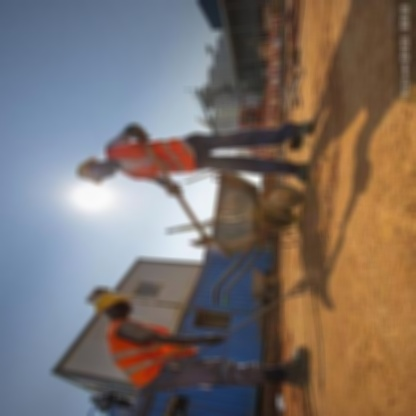vest: (103, 314, 198, 390), (101, 136, 201, 182)
yellow: (92, 287, 134, 316), (73, 150, 108, 184)
